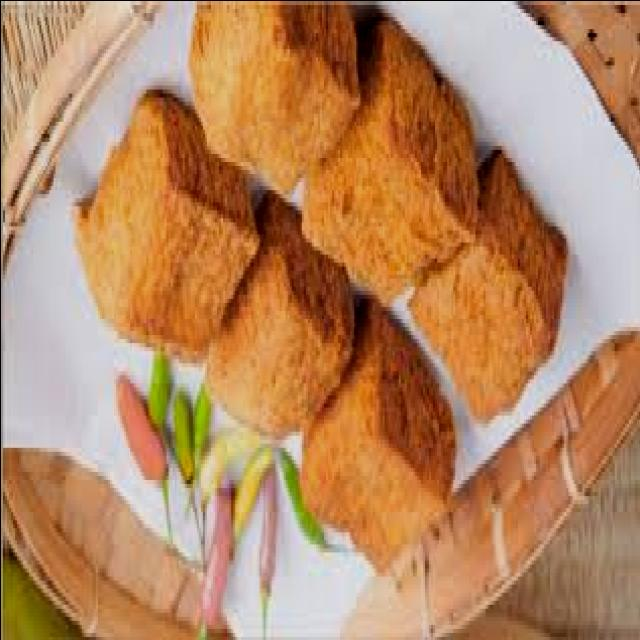tahu goreng: (301, 16, 485, 298), (71, 89, 262, 358), (402, 145, 569, 427), (297, 286, 456, 576), (206, 189, 359, 435), (186, 0, 361, 193)
